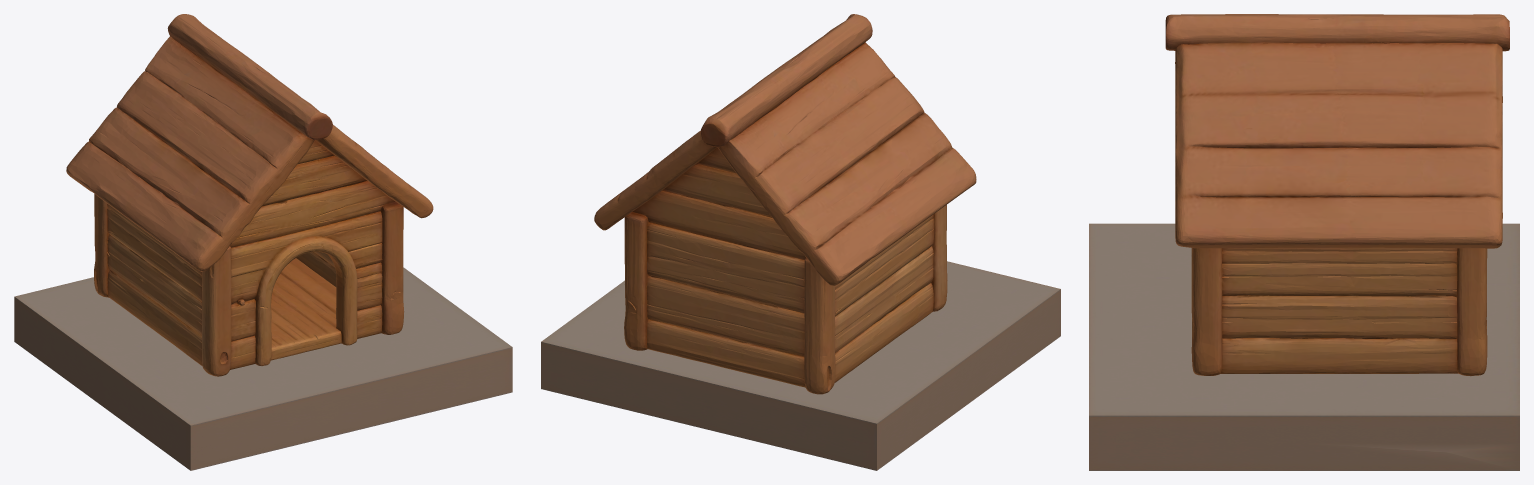
The model's file is DOM_budka_7__base.glb.
3 views of the same model, side by side, from view 1: azimuth 30°, elevation 25°; view 2: azimuth 150°, elevation 25°; view 3: azimuth 270°, elevation 25° (orthographic). The views are drawn at different scales.
Visible parts, largest first — view 1: tripo_node_12152d5f-ba4f-4488-aab8-28f63a66d37c, Cube; view 2: tripo_node_12152d5f-ba4f-4488-aab8-28f63a66d37c, Cube; view 3: tripo_node_12152d5f-ba4f-4488-aab8-28f63a66d37c, Cube.
Boxes of the visible parts, bbox=[...] form: tripo_node_12152d5f-ba4f-4488-aab8-28f63a66d37c: bbox=[66, 14, 433, 376]; Cube: bbox=[14, 267, 512, 470]; tripo_node_12152d5f-ba4f-4488-aab8-28f63a66d37c: bbox=[594, 14, 976, 394]; Cube: bbox=[541, 261, 1060, 470]; tripo_node_12152d5f-ba4f-4488-aab8-28f63a66d37c: bbox=[1165, 14, 1509, 376]; Cube: bbox=[1089, 223, 1519, 470].
Bounding box in the file's own units: 3.3 × 2.88 × 3.13.
Materials: 2 (2 with a texture image).
